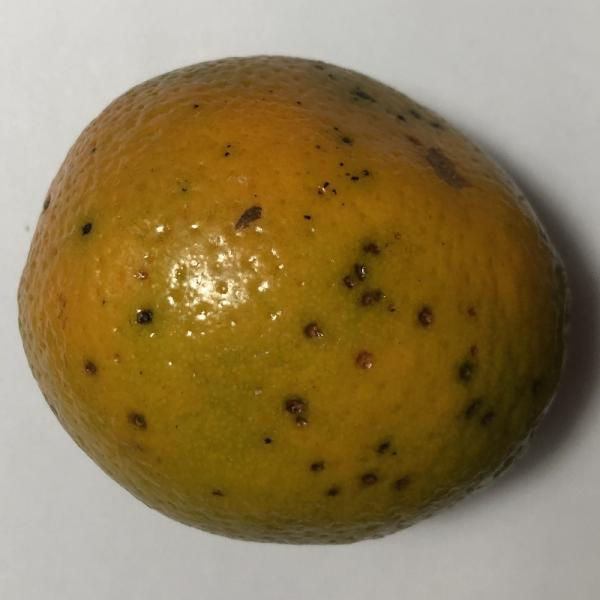Machas negras: (1, 38, 575, 556)
